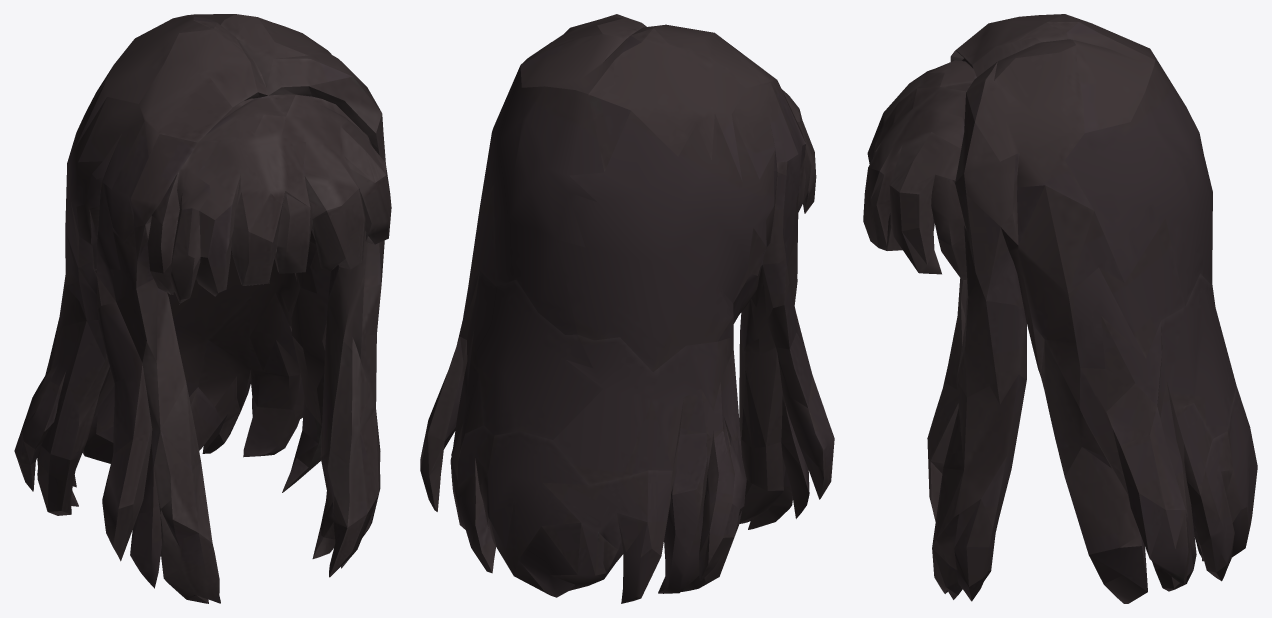
File: girl-long.glb
3 renders of one model, left to right at view 1: azimuth 30°, elevation 25°; view 2: azimuth 150°, elevation 25°; view 3: azimuth 270°, elevation 25°, orthographic. The views are drawn at different scales.
Size of the model in its own units: 1.19 by 1.9 by 1.26.
Materials: 1 (1 with a texture image).
